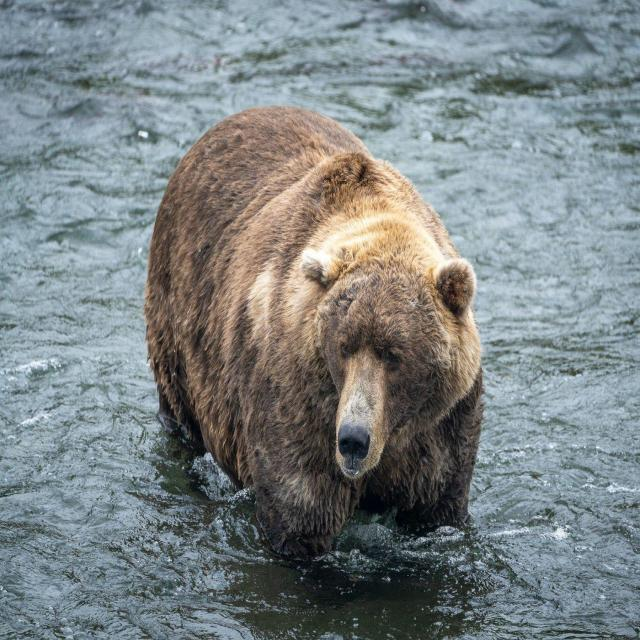Bear: (144, 105, 486, 564)
